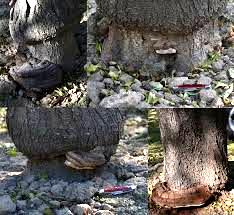Ganoderma - Fruit Body: (152, 181, 211, 208), (64, 148, 106, 168), (156, 45, 178, 56)
